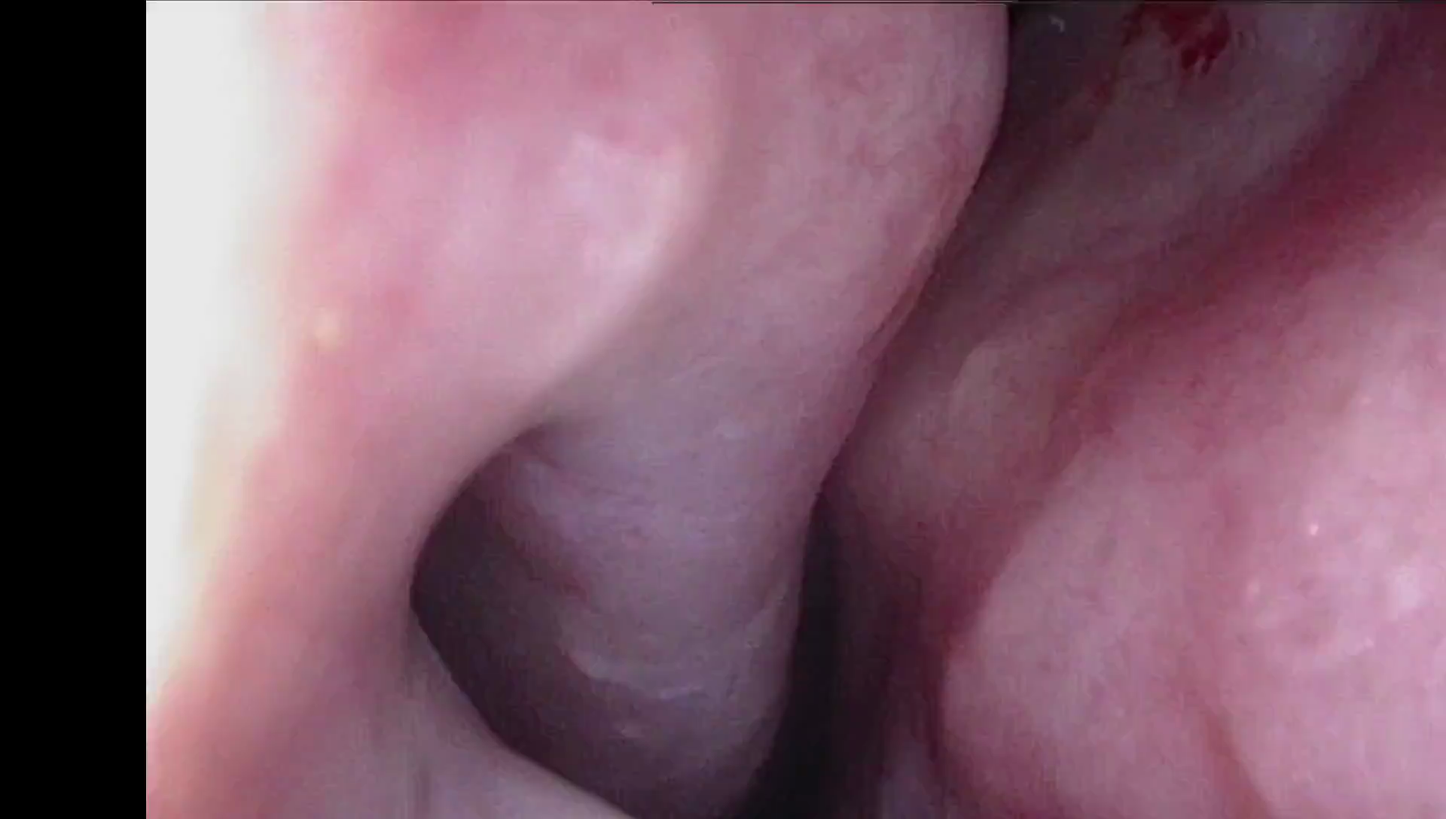close_wall: (151, 0, 413, 817)
next: (696, 485, 958, 819), (979, 0, 1111, 104)
